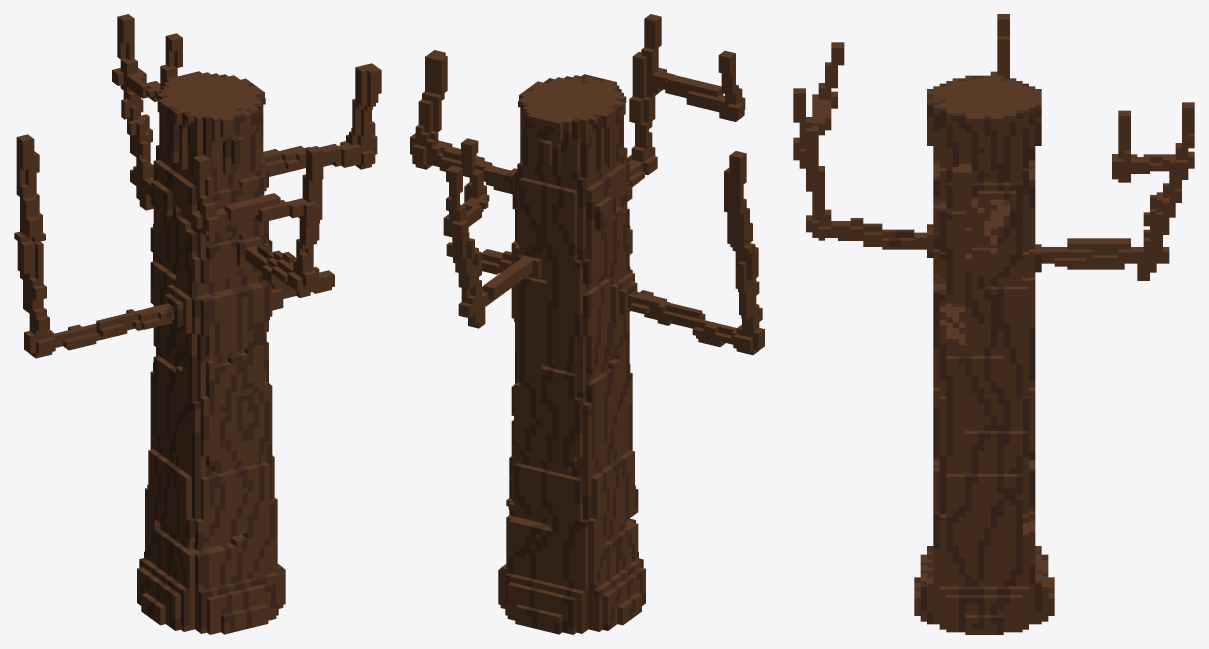
Rendered from trunk_4.glb.
3 views of the same model, side by side, from view 1: azimuth 30°, elevation 25°; view 2: azimuth 150°, elevation 25°; view 3: azimuth 270°, elevation 25° (orthographic).
Visible parts, largest first — view 1: trunk_4; view 2: trunk_4; view 3: trunk_4.
Part boxes in pixels (x1,y1,x2,y2): trunk_4: [14, 14, 381, 634]; trunk_4: [410, 14, 764, 634]; trunk_4: [793, 14, 1194, 634].
Bounding box in the file's own units: 6.3 × 9 × 6.3.
1 material, 1 textured.
